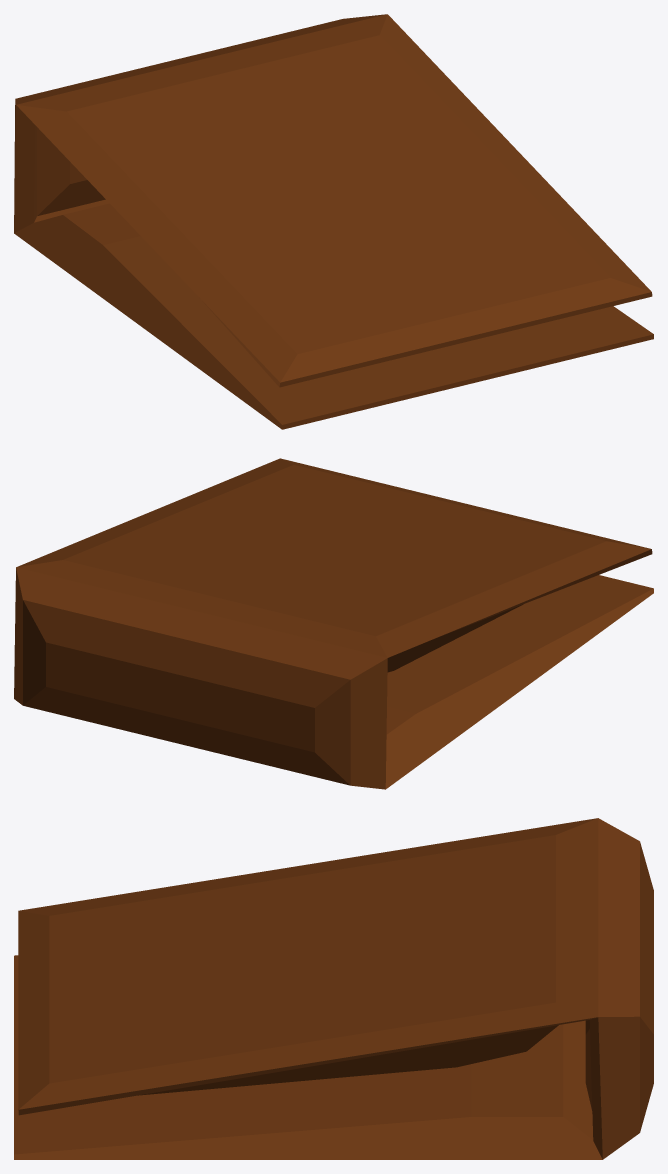
File: Walet.fbx
The picture shows the model from 3 angles, top to bottom: view 1: azimuth 30°, elevation 25°; view 2: azimuth 150°, elevation 25°; view 3: azimuth 270°, elevation 25°; orthographic projection. The views are drawn at different scales.
Visible parts, largest first — view 1: Box001; view 2: Box001; view 3: Box001.
Boxes of the visible parts, x1,y1,x2,y2 form: Box001: (14, 14, 653, 429); Box001: (14, 458, 653, 789); Box001: (14, 818, 653, 1159).
Size of the model in its own units: 8.03 by 2.68 by 10.87.
